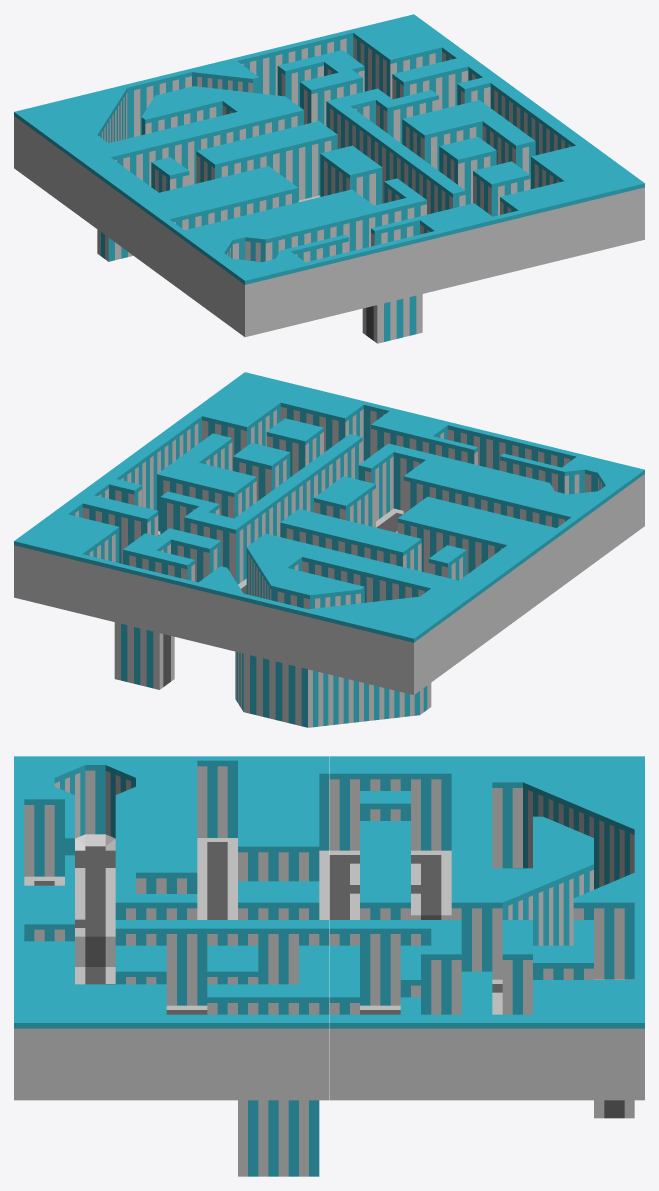
Rendered from saturnlvl1.fbx.
3 renders of one model, top to bottom at view 1: azimuth 30°, elevation 25°; view 2: azimuth 150°, elevation 25°; view 3: azimuth 270°, elevation 25°, orthographic. The views are drawn at different scales.
Visible parts, largest first — view 1: Plane; view 2: Plane; view 3: Plane.
Part boxes in pixels (x1,y1,x2,y2): Plane: (14,14,644,343); Plane: (14,372,644,727); Plane: (14,756,644,1176).
Bounding box in the file's own units: 3200 × 906 × 3200.
